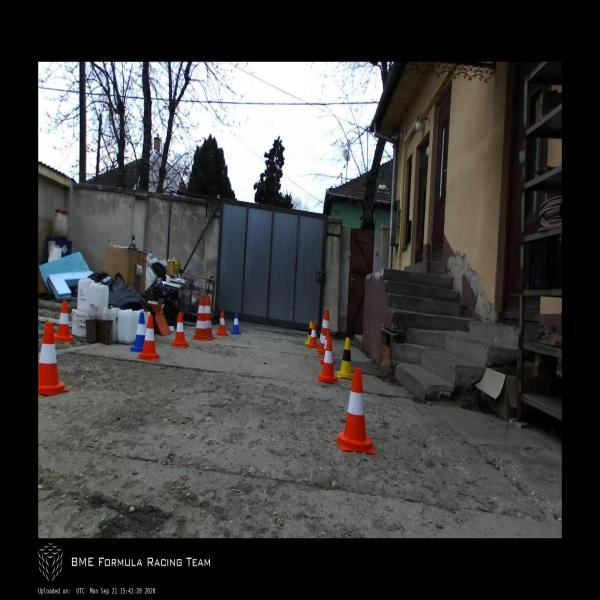blue_cone: (130, 312, 145, 352), (230, 311, 241, 335)
large_orange_cone: (191, 295, 210, 341), (317, 309, 334, 354), (204, 296, 215, 338)
orange_cone: (335, 366, 375, 455), (38, 321, 71, 395), (136, 315, 161, 361), (318, 336, 337, 384), (54, 300, 73, 341), (171, 312, 189, 348), (320, 329, 335, 365), (216, 310, 228, 336), (308, 322, 318, 348)
yellow_cone: (336, 337, 353, 379), (306, 321, 312, 345)
